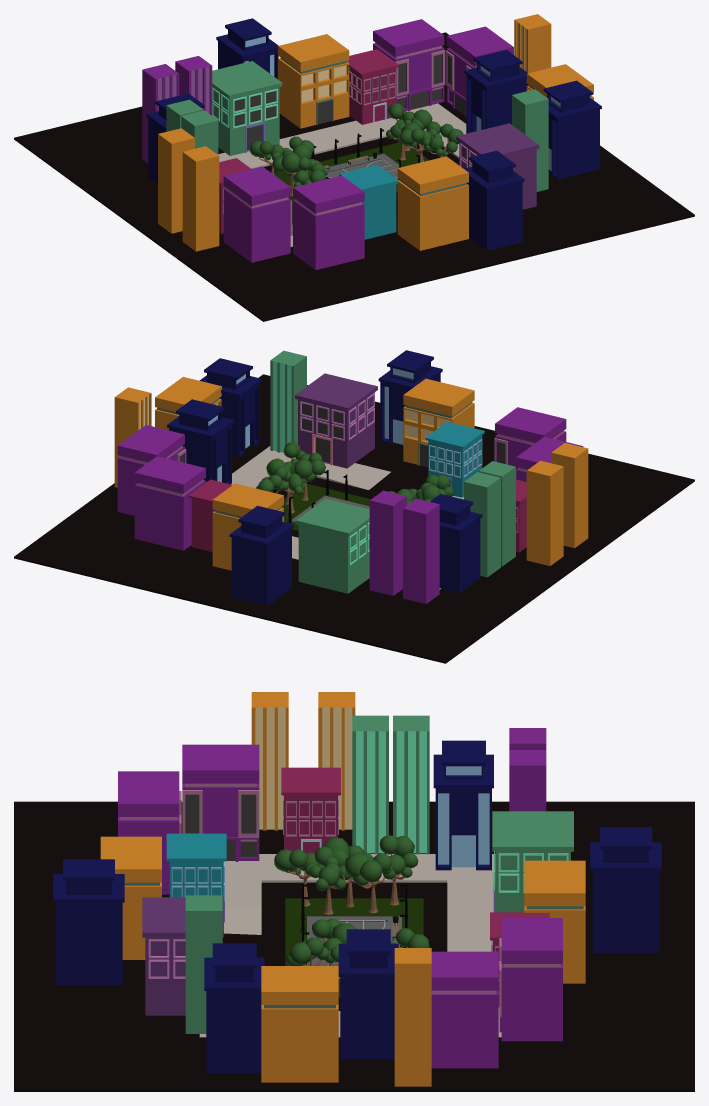
File: city.glb
The picture shows the model from 3 angles, top to bottom: view 1: azimuth 30°, elevation 25°; view 2: azimuth 150°, elevation 25°; view 3: azimuth 270°, elevation 25°; orthographic projection. The views are drawn at different scales.
Parts seen in each view (by area): view 1: BuildingGround, Building7.005, Building7.004, Building7.001, Building7.006, Building4.003, Building7.002, Building4.002, Building5, Building4.004, Building2.004, Building5.001 (+18 smaller); view 2: BuildingGround, Building5, Building4.005, Building7.002, Building5.001, Building7.004, Building2.007, Building4.006, Building2.006, Building4.004, Building2.001, Building4.002 (+17 smaller); view 3: BuildingGround, Building7.007, Building4.005, Building4.003, Road, Building7.003, Building7.006, Building7.002, Building4.006, Building4.002, Building4.004, Building5 (+16 smaller).
Boxes of the visible parts, x1,y1,x2,y2 form: BuildingGround: (14, 32, 694, 321); Building7.005: (292, 175, 364, 270); Building7.004: (397, 156, 468, 250); Building7.001: (278, 34, 349, 128); Building7.006: (223, 166, 291, 262); Building4.003: (464, 150, 524, 250); Building7.002: (373, 19, 444, 111); Building4.002: (543, 80, 601, 179); Building5: (212, 61, 282, 155); Building4.004: (464, 50, 528, 133); Building2.004: (182, 146, 219, 251); Building5.001: (456, 123, 539, 209); BuildingGround: (14, 374, 694, 663); Building5: (295, 498, 369, 593); Building4.005: (229, 505, 293, 605); Building7.002: (134, 456, 206, 550); Building5.001: (295, 373, 377, 468); Building7.004: (403, 378, 474, 467); Building2.007: (526, 460, 563, 565); Building4.006: (430, 494, 482, 592); Building2.006: (403, 498, 439, 603); Building4.004: (167, 399, 234, 484); Building2.001: (369, 490, 406, 595); Building4.002: (199, 358, 261, 457); BuildingGround: (14, 801, 694, 1091); Building7.007: (261, 966, 338, 1082); Building4.005: (590, 827, 661, 952); Building4.003: (53, 859, 124, 984); Road: (261, 882, 447, 1010); Building7.003: (431, 951, 498, 1068); Building7.006: (182, 744, 259, 861); Building7.002: (499, 918, 562, 1041); Building4.006: (433, 740, 493, 870); Building4.002: (204, 943, 264, 1072); Building4.004: (338, 929, 398, 1058); Building5: (492, 811, 573, 912).
Bounding box in the file's own units: 35.22 × 7.36 × 35.22.
